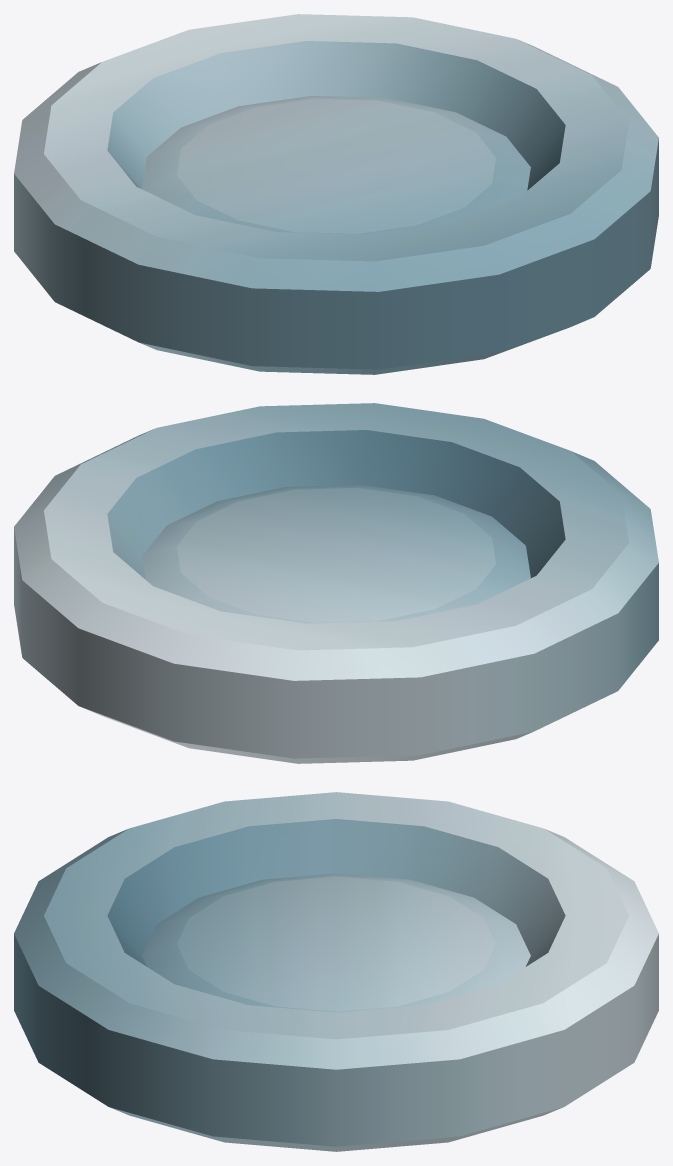
The model's file is board.coin_silver.glb.
3 views of the same model, one above another, from view 1: azimuth 30°, elevation 25°; view 2: azimuth 150°, elevation 25°; view 3: azimuth 270°, elevation 25° (orthographic).
Parts seen in each view (by area): view 1: coin_silver; view 2: coin_silver; view 3: coin_silver.
Boxes of the visible parts, x1=… form: coin_silver: x1=14, y1=14, x2=658, y2=374; coin_silver: x1=14, y1=403, x2=658, y2=763; coin_silver: x1=14, y1=792, x2=658, y2=1151.
Bounding box in the file's own units: 0.0277 × 0.00533 × 0.0277.
1 material, 1 textured.
